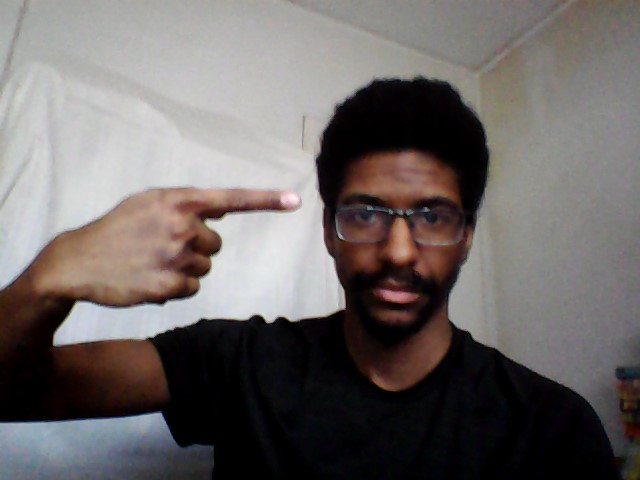g: (70, 176, 307, 313)
